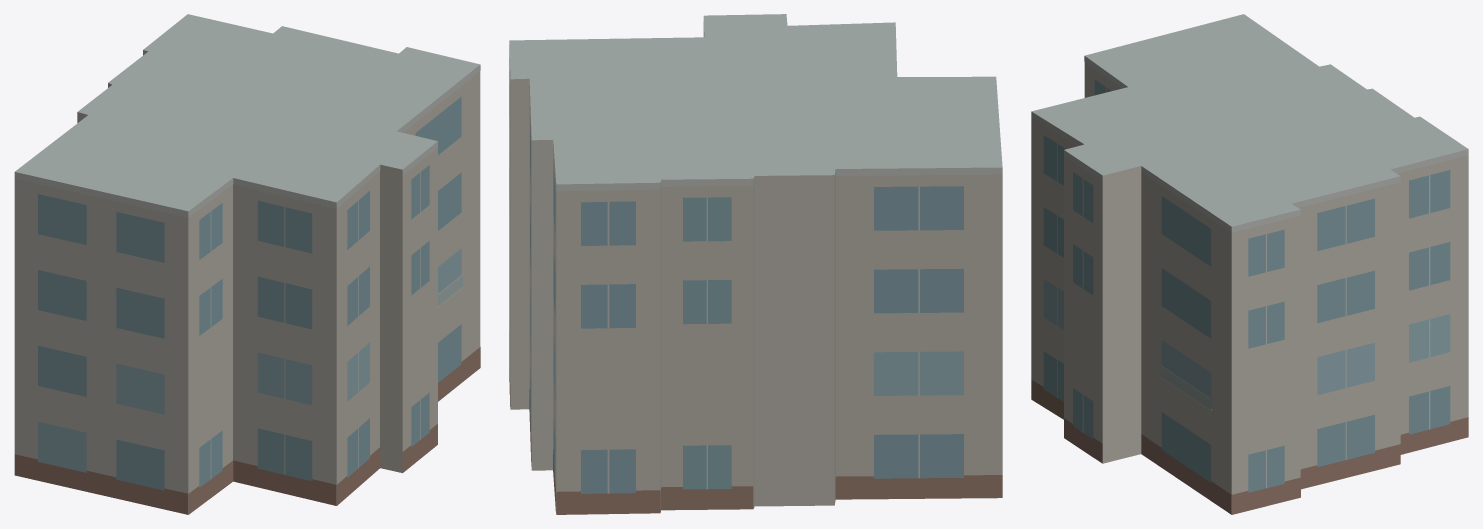
Rendered from survey-upis-33007470.glb.
3 views of the same model, side by side, from view 1: azimuth 30°, elevation 25°; view 2: azimuth 150°, elevation 25°; view 3: azimuth 270°, elevation 25° (orthographic). The views are drawn at different scales.
Parts seen in each view (by area): view 1: survey-upis-33007470.tmp; view 2: survey-upis-33007470.tmp; view 3: survey-upis-33007470.tmp.
Boxes of the visible parts, x1,y1,x2,y2 form: survey-upis-33007470.tmp: (14, 14, 480, 514); survey-upis-33007470.tmp: (509, 14, 1002, 514); survey-upis-33007470.tmp: (1031, 14, 1468, 514).
Size of the model in its own units: 18.54 by 11.7 by 16.11.
